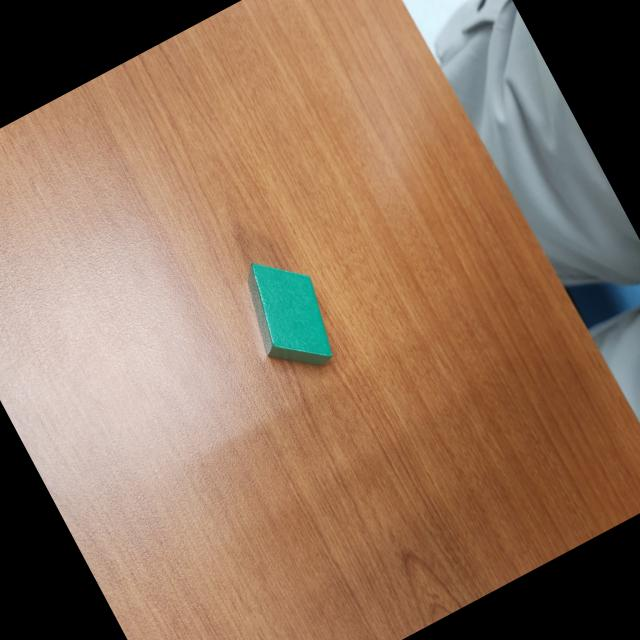green: (226, 240, 353, 387)
